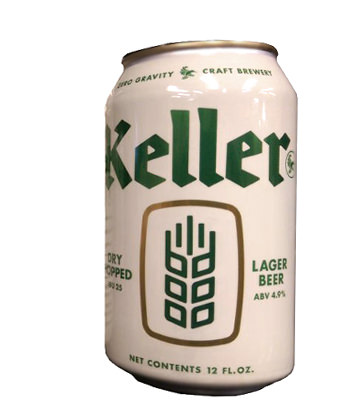beer can: (103, 40, 296, 397)
